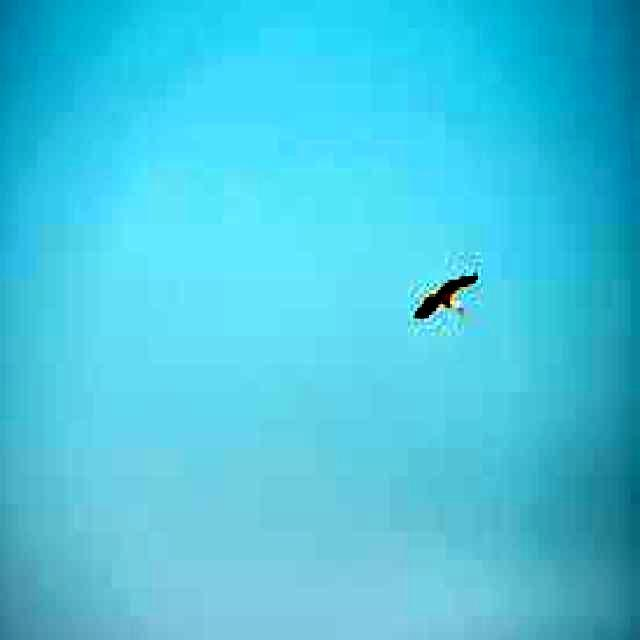bird: (408, 266, 482, 322)
